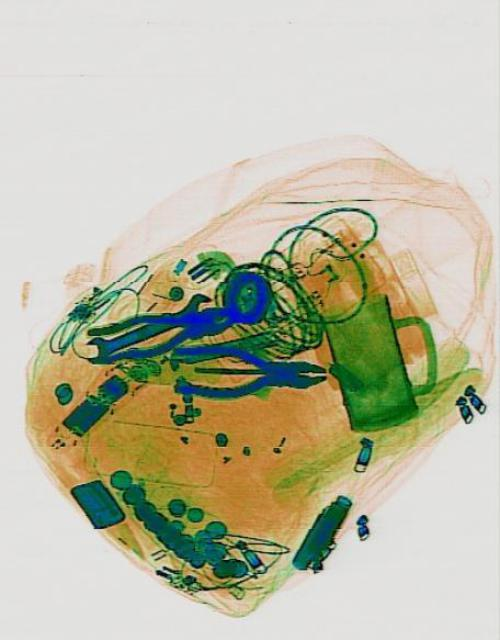Pliers: (80, 292, 231, 372), (170, 340, 324, 400)
Wrench: (83, 286, 214, 364)
